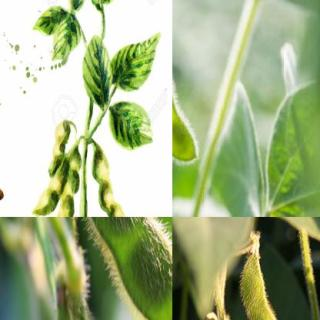soya: (77, 217, 172, 319), (172, 17, 200, 164), (240, 259, 306, 319), (92, 145, 132, 216), (31, 155, 70, 216), (49, 149, 82, 216), (48, 120, 70, 178)
